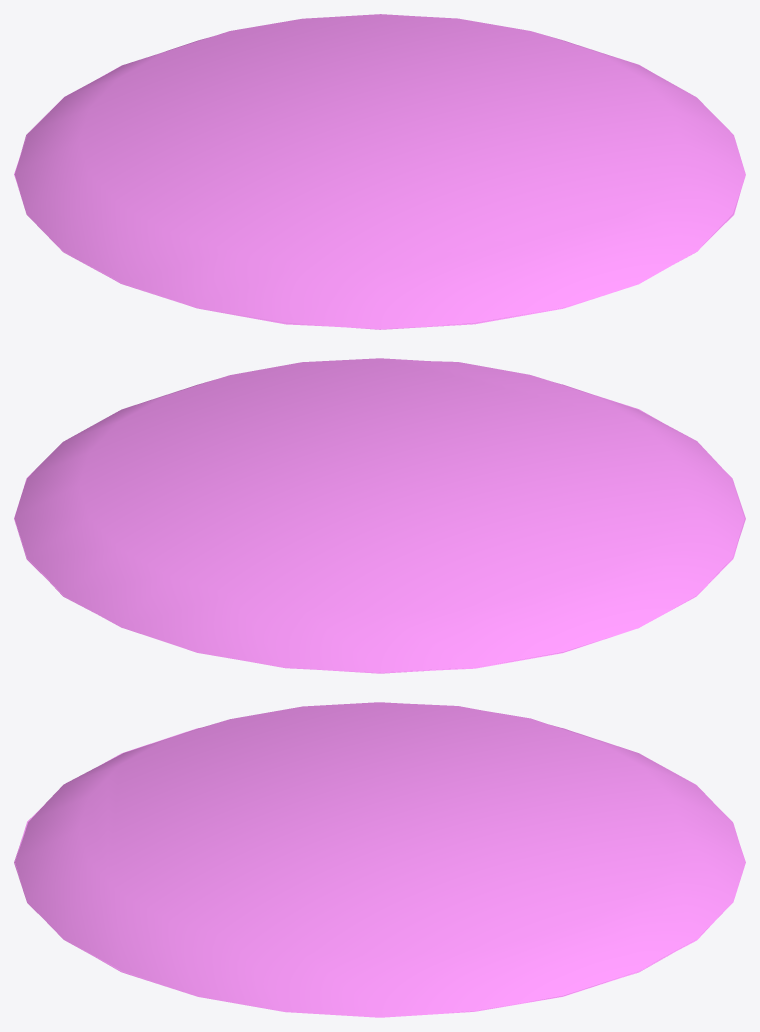
File: original_32.obj
The picture shows the model from 3 angles, top to bottom: view 1: azimuth 30°, elevation 25°; view 2: azimuth 150°, elevation 25°; view 3: azimuth 270°, elevation 25°; orthographic projection.
Parts seen in each view (by area): view 1: #ID155; view 2: #ID155; view 3: #ID155.
Boxes of the visible parts, x1=… form: #ID155: x1=14, y1=14, x2=745, y2=329; #ID155: x1=14, y1=358, x2=745, y2=673; #ID155: x1=14, y1=702, x2=745, y2=1017.
Bounding box in the file's own units: 0.1624 × 0.00846 × 0.1625.
